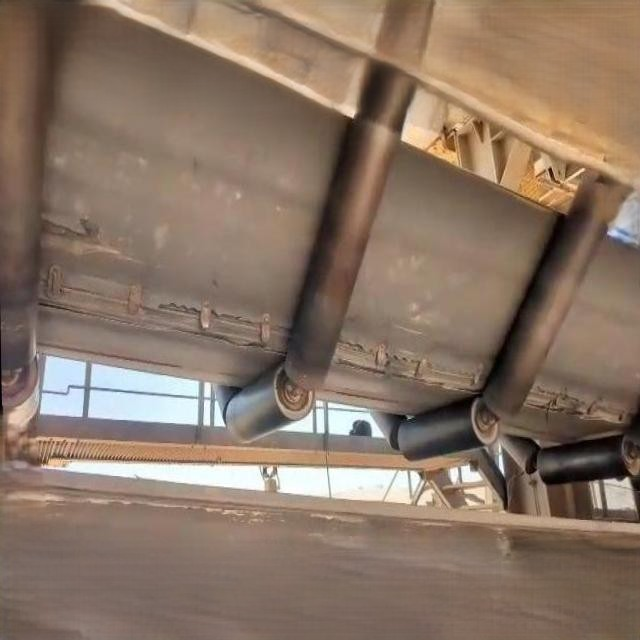Tear: (35, 258, 300, 362), (328, 330, 492, 398), (520, 378, 634, 431)
Wear: (43, 205, 142, 268)
